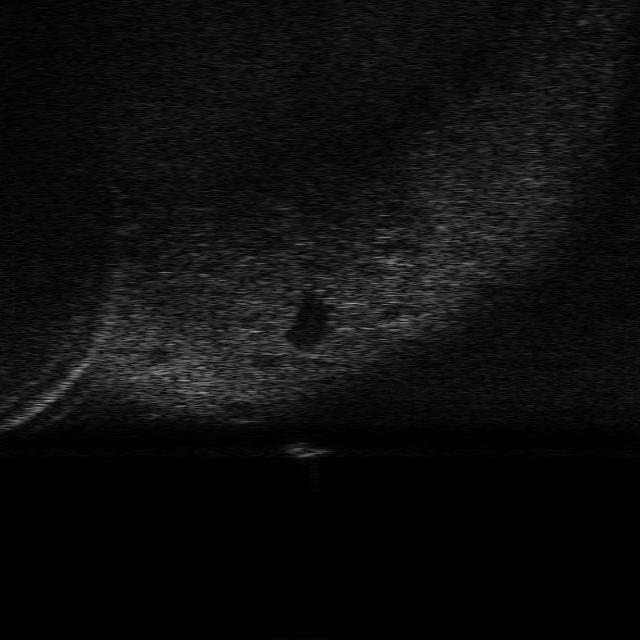cube: (276, 443, 340, 460)
